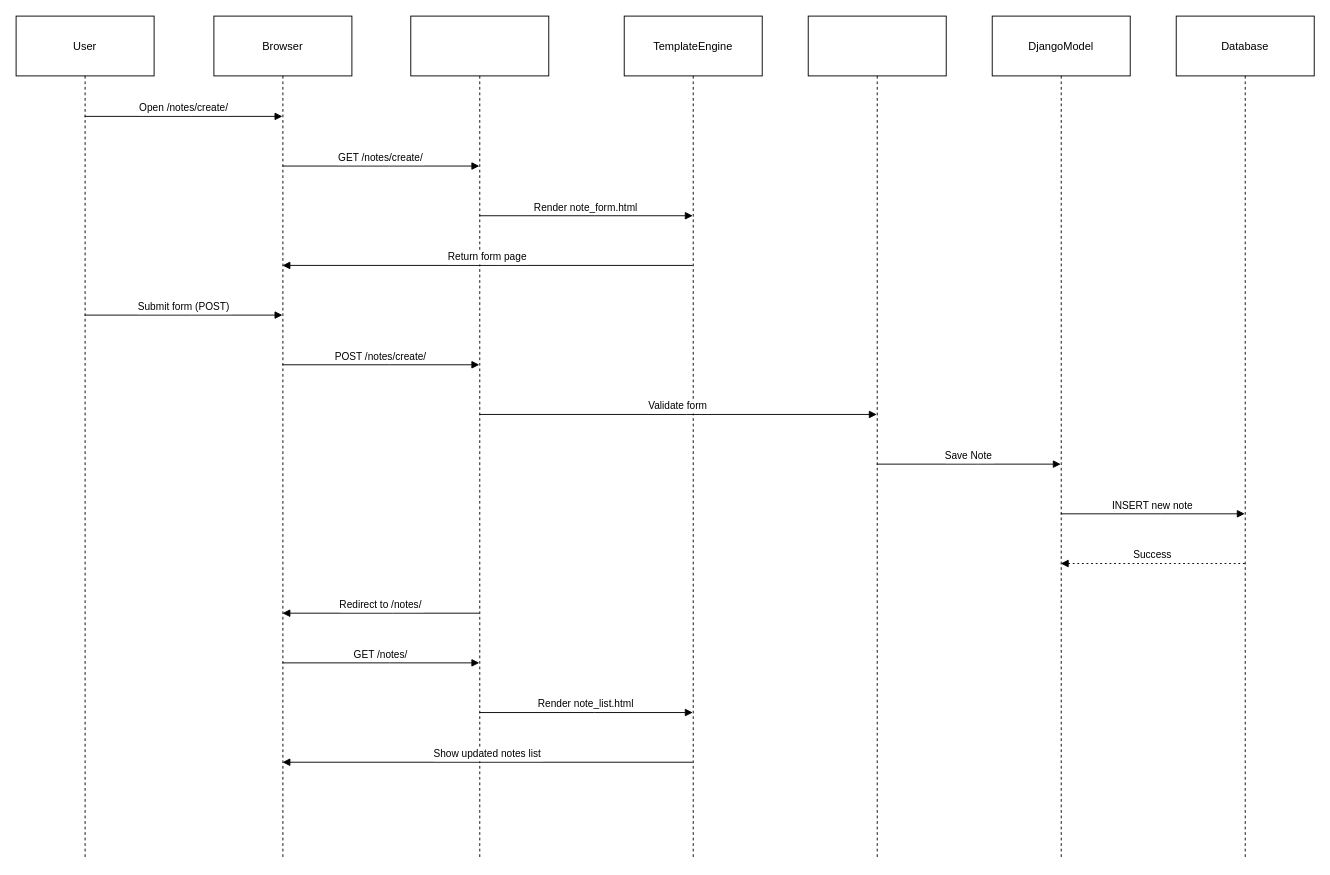
Some shapes in this 1330 by 875 pixel diagram are drawn without their labels. Here are the shapes that lost their labels. From the top down, the box of each, then its label:
(410, 15, 549, 859): DjangoView
(807, 15, 946, 859): NoteForm
